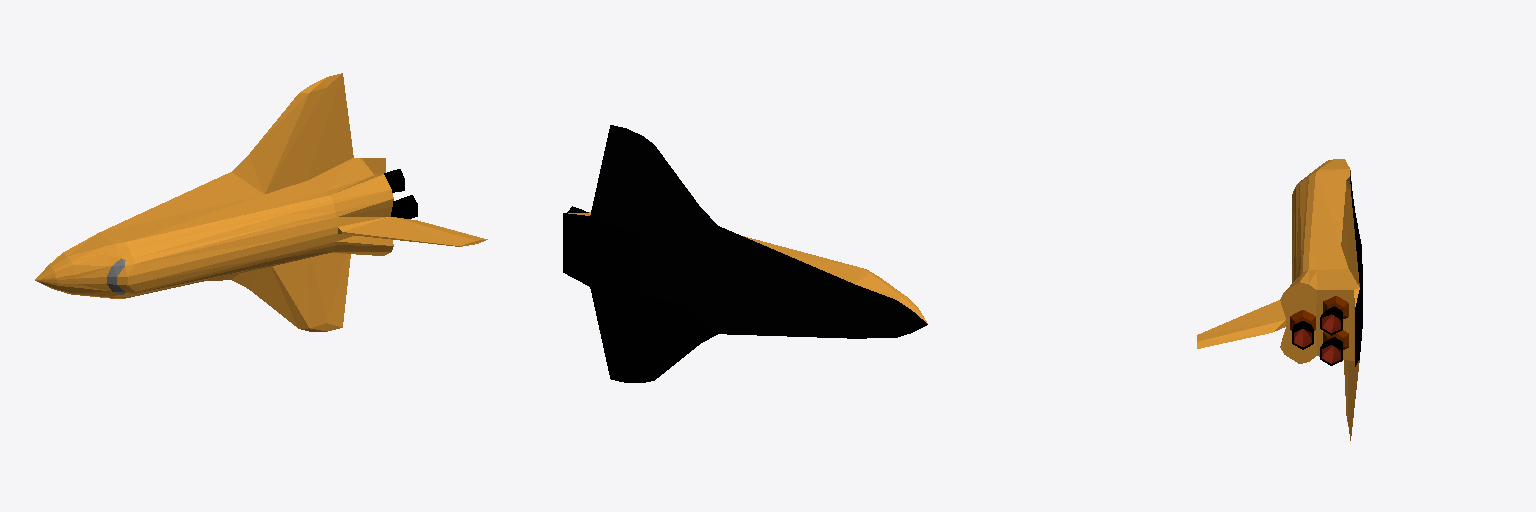
File: shuttle.obj
3 views of the same model, side by side, from view 1: azimuth 30°, elevation 25°; view 2: azimuth 150°, elevation 25°; view 3: azimuth 270°, elevation 25° (orthographic).
Parts seen in each view (by area): view 1: body, wings, tail, engout; view 2: tiles, body; view 3: body, rearbody, tail, wings, tiles, engmount, enginside.
Boxes of the visible parts, <box> form: body: <box>35,158,393,298</box>; wings: <box>99,73,353,331</box>; tail: <box>338,217,487,246</box>; engout: <box>384,169,417,218</box>; tiles: <box>563,125,927,382</box>; body: <box>743,236,927,323</box>; body: <box>1286,159,1359,290</box>; rearbody: <box>1274,282,1359,363</box>; tail: <box>1197,300,1285,348</box>; wings: <box>1341,170,1359,440</box>; tiles: <box>1350,176,1362,366</box>; engmount: <box>1290,296,1348,349</box>; enginside: <box>1294,314,1340,363</box>.
Bounding box in the file's own units: 14.69 × 9.36 × 5.51.